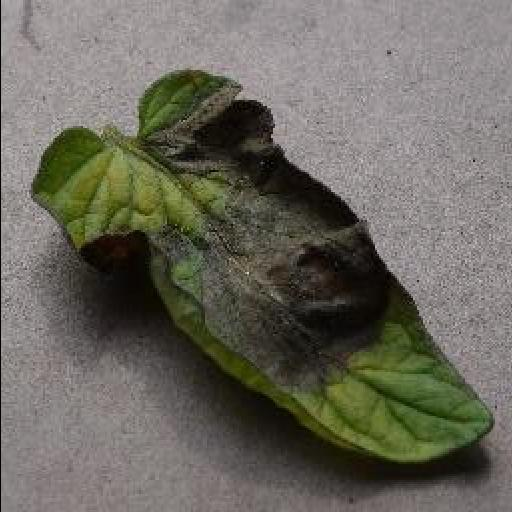disease_tomato: (24, 68, 500, 464)
